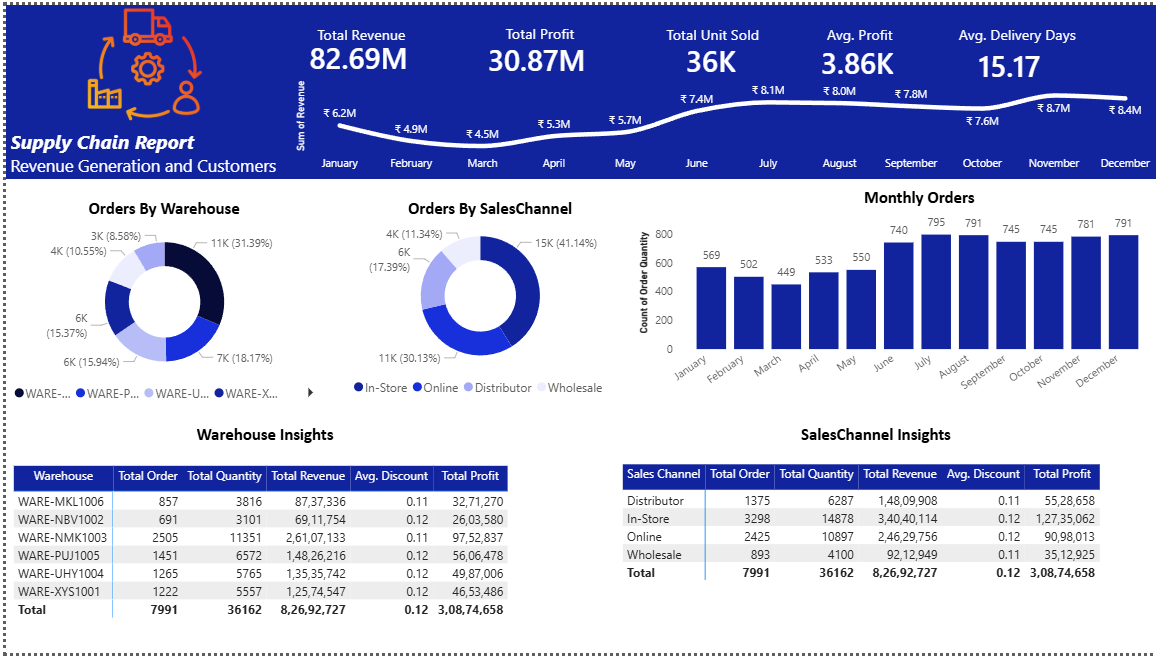

The dashboard page shown, as its layout file describes it:
{"tool":"powerbi","page":{"name":"Page 1","canvas":[1280,720],"ordinal":0},"visuals":[{"type":"shape","box":[0,0,1280,193.3],"z":0},{"type":"image","box":[0,0,308.3,131.7],"z":1000},{"type":"textbox","box":[0,131.7,308.3,76.7],"z":2000},{"type":"cardVisual","fields":{"Data":["Sum(main.Revenue)"]},"box":[308.3,16.7,173.3,81.7],"z":3000},{"type":"cardVisual","fields":{"Data":["Sum(main.Profit)"]},"box":[506.7,18.3,180,81.7],"z":4000},{"type":"cardVisual","fields":{"Data":["Sum(main.Order Quantity)"]},"box":[726.7,20,116.7,81.7],"z":5000},{"type":"cardVisual","fields":{"Data":["Avg(main.Profit)"]},"box":[876.7,21.7,141.7,81.7],"z":6000},{"type":"cardVisual","fields":{"Data":["Avg(main.Delivery Days)"]},"box":[1051.7,25,141.7,81.7],"z":7000},{"type":"textbox","box":[316.7,16.7,156.7,53.3],"z":8000},{"type":"textbox","box":[506.7,15,173.3,51.7],"z":9000},{"type":"textbox","box":[698,16,174,52],"z":10000},{"type":"textbox","box":[862,16,174,52],"z":11000},{"type":"textbox","box":[1036,16,174,52],"z":12000},{"type":"lineChart","fields":{"Category":["main.OrderDate.Variation.Date Hierarchy.Year","main.OrderDate.Variation.Date Hierarchy.Quarter","main.OrderDate.Variation.Date Hierarchy.Month","main.OrderDate.Variation.Date Hierarchy.Day"],"Y":["Sum(main.Revenue)"]},"box":[316.7,68.3,963.3,125],"z":13000},{"type":"donutChart","fields":{"Category":["main.Sales Channel"],"Y":["Sum(main.Order Quantity)"]},"box":[355,231.7,343.3,211.7],"z":14000},{"type":"columnChart","fields":{"Category":["main.OrderDate.Variation.Date Hierarchy.Year","main.OrderDate.Variation.Date Hierarchy.Quarter","main.OrderDate.Variation.Date Hierarchy.Month","main.OrderDate.Variation.Date Hierarchy.Day"],"Y":["CountNonNull(main.Order Quantity)"]},"box":[698.3,220,581.7,230],"z":15000},{"type":"donutChart","fields":{"Category":["main.WarehouseCode"],"Y":["Sum(main.Order Quantity)"]},"box":[3.3,238.3,345,211.7],"z":16000},{"type":"textbox","box":[86.7,208.3,178.3,45],"z":17000},{"type":"textbox","box":[441.7,208.3,203.3,45],"z":18000},{"type":"textbox","box":[948.3,196.7,140,45],"z":19000},{"type":"pivotTable","fields":{"Values":["CountNonNull(main.Order Quantity)","Sum(main.Order Quantity)","Sum(main.Revenue)","Avg(main.Discount Applied)","Sum(main.Profit)"],"Rows":["main.WarehouseCode"]},"box":[3.3,506.7,610,191.7],"z":20000},{"type":"textbox","box":[206.7,460,203.3,45],"z":21000},{"type":"pivotTable","fields":{"Values":["CountNonNull(main.Order Quantity)","Sum(main.Order Quantity)","Sum(main.Revenue)","Avg(main.Discount Applied)","Sum(main.Profit)"],"Rows":["main.Sales Channel"]},"box":[680,505,600,191.7],"z":21001},{"type":"textbox","box":[878.3,460,203.3,45],"z":21002}]}

Visuals, with their boxes in screenshot pixels (x1, y1, x2, y2), scaled from the page's 1280x720 canvas onto the 1156x658 screenshot:
shape: x1=0, y1=0, x2=1155, y2=177
image: x1=0, y1=0, x2=278, y2=120
textbox: x1=0, y1=120, x2=278, y2=190
cardVisual - Sum(main.Revenue): x1=278, y1=15, x2=435, y2=90
cardVisual - Sum(main.Profit): x1=458, y1=17, x2=620, y2=91
cardVisual - Sum(main.Order Quantity): x1=656, y1=18, x2=762, y2=93
cardVisual - Avg(main.Profit): x1=792, y1=20, x2=920, y2=94
cardVisual - Avg(main.Delivery Days): x1=950, y1=23, x2=1078, y2=98
textbox: x1=286, y1=15, x2=428, y2=64
textbox: x1=458, y1=14, x2=614, y2=61
textbox: x1=630, y1=15, x2=788, y2=62
textbox: x1=778, y1=15, x2=936, y2=62
textbox: x1=936, y1=15, x2=1093, y2=62
lineChart - main.OrderDate.Variation.Date Hierarchy.Year x main.OrderDate.Variation.Date Hierarchy.Quarter: x1=286, y1=62, x2=1155, y2=177
donutChart - main.Sales Channel x Sum(main.Order Quantity): x1=321, y1=212, x2=631, y2=405
columnChart - main.OrderDate.Variation.Date Hierarchy.Year x main.OrderDate.Variation.Date Hierarchy.Quarter: x1=631, y1=201, x2=1155, y2=411
donutChart - main.WarehouseCode x Sum(main.Order Quantity): x1=3, y1=218, x2=315, y2=411
textbox: x1=78, y1=190, x2=239, y2=231
textbox: x1=399, y1=190, x2=583, y2=231
textbox: x1=856, y1=180, x2=983, y2=221
pivotTable - CountNonNull(main.Order Quantity) x Sum(main.Order Quantity): x1=3, y1=463, x2=554, y2=638
textbox: x1=187, y1=420, x2=370, y2=462
pivotTable - CountNonNull(main.Order Quantity) x Sum(main.Order Quantity): x1=614, y1=462, x2=1155, y2=637
textbox: x1=793, y1=420, x2=977, y2=462
